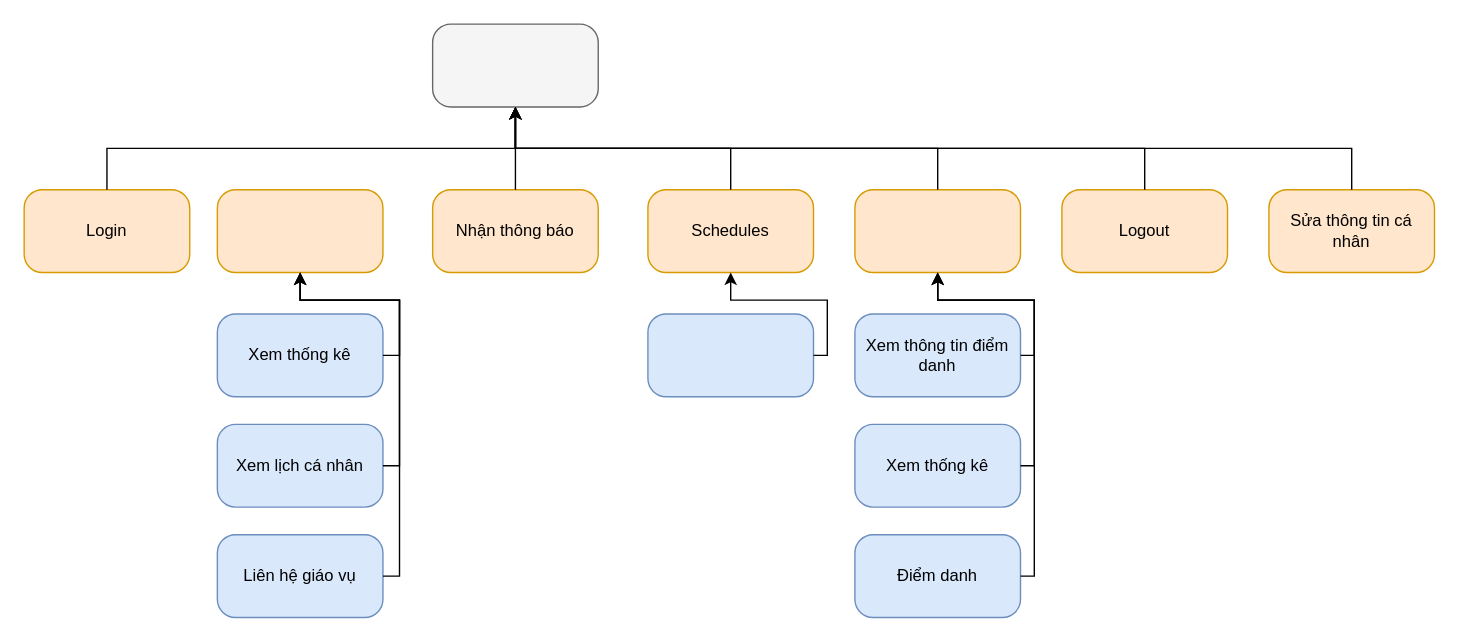
This 1459x642 diagram has some shape labels left out. Here are the shapes that lost their labels. From the top down, the centre of each, then its label:
point 514,65: Home
point 299,230: Tổng quan
point 937,230: Attendances
point 730,355: Xem thông tin lịch học
